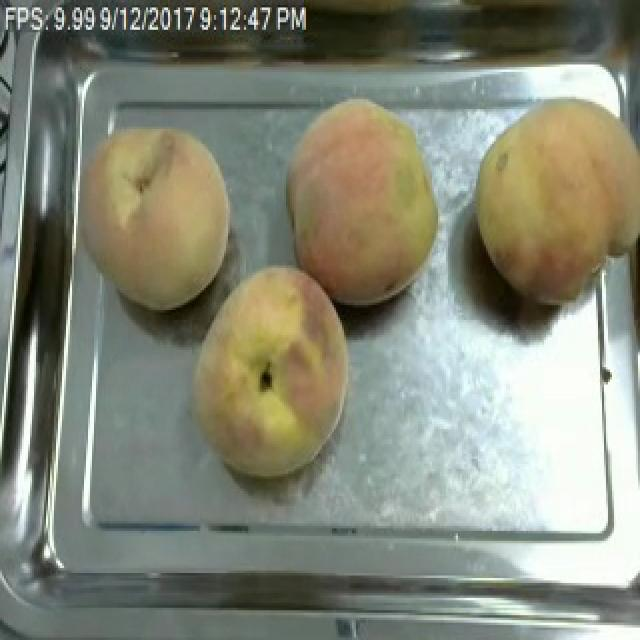Fruit: (462, 85, 640, 318), (180, 256, 358, 484), (276, 84, 448, 315), (72, 112, 240, 320)
